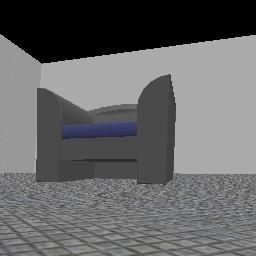fotoliu: (37, 74, 175, 184)
